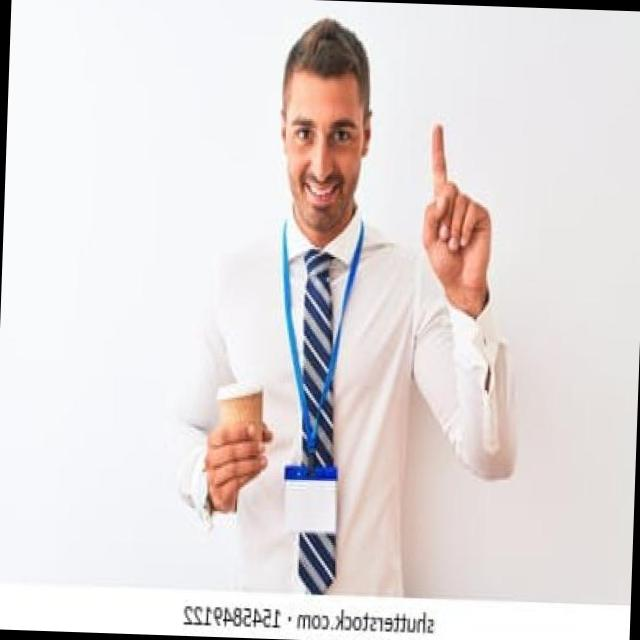id_card: (270, 216, 360, 535)
